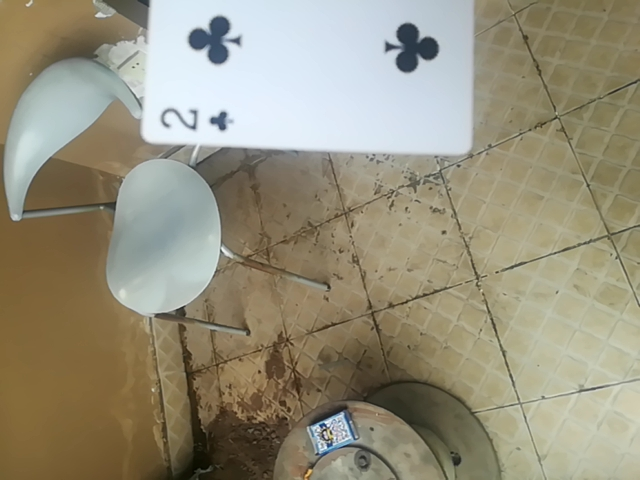mh 2: (142, 0, 466, 159)
